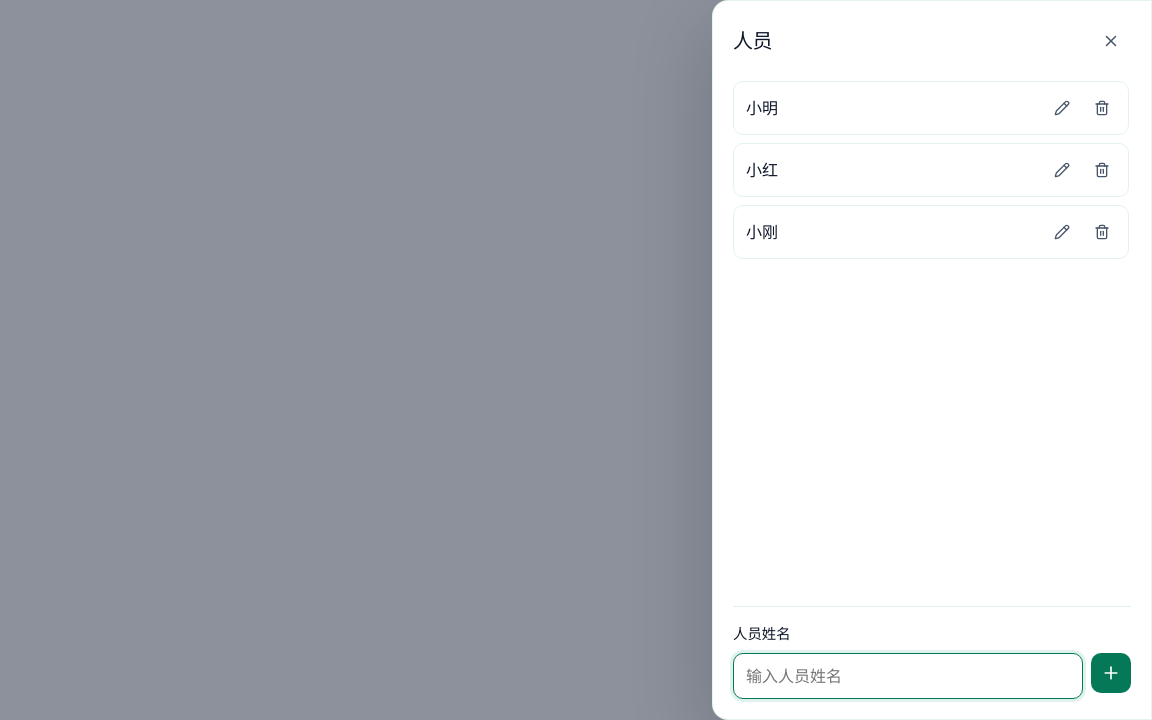
PeopleDrawer › cancel leaves the project unchanged
Click the button named "删除人员：小刚": (1102, 232) left=1082, top=212, right=1122, bottom=252
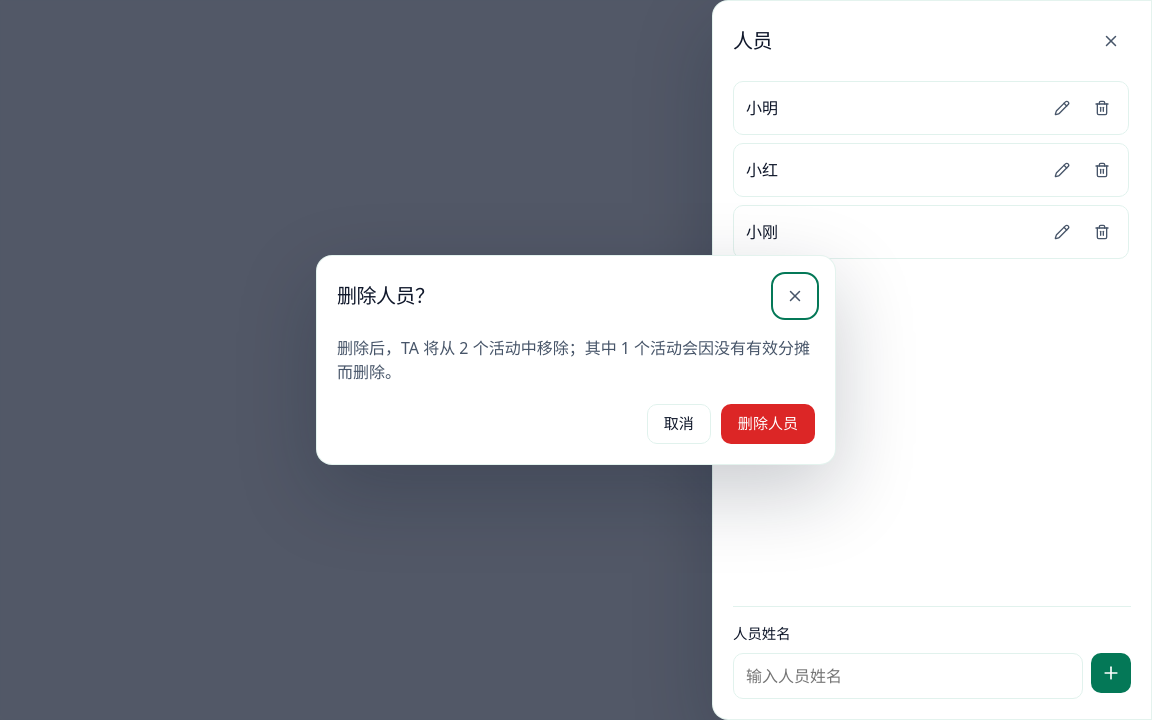
Click the button "取消": (679, 424) left=647, top=404, right=711, bottom=444
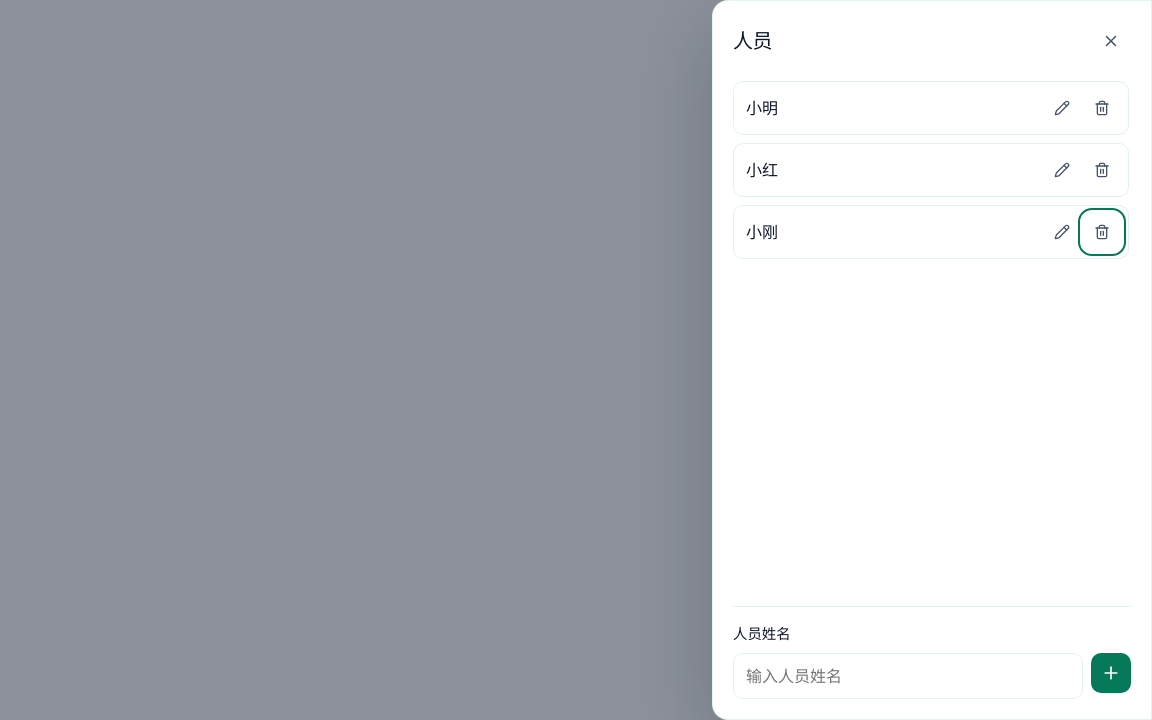
Expected: the heading "删除人员？" is gone
